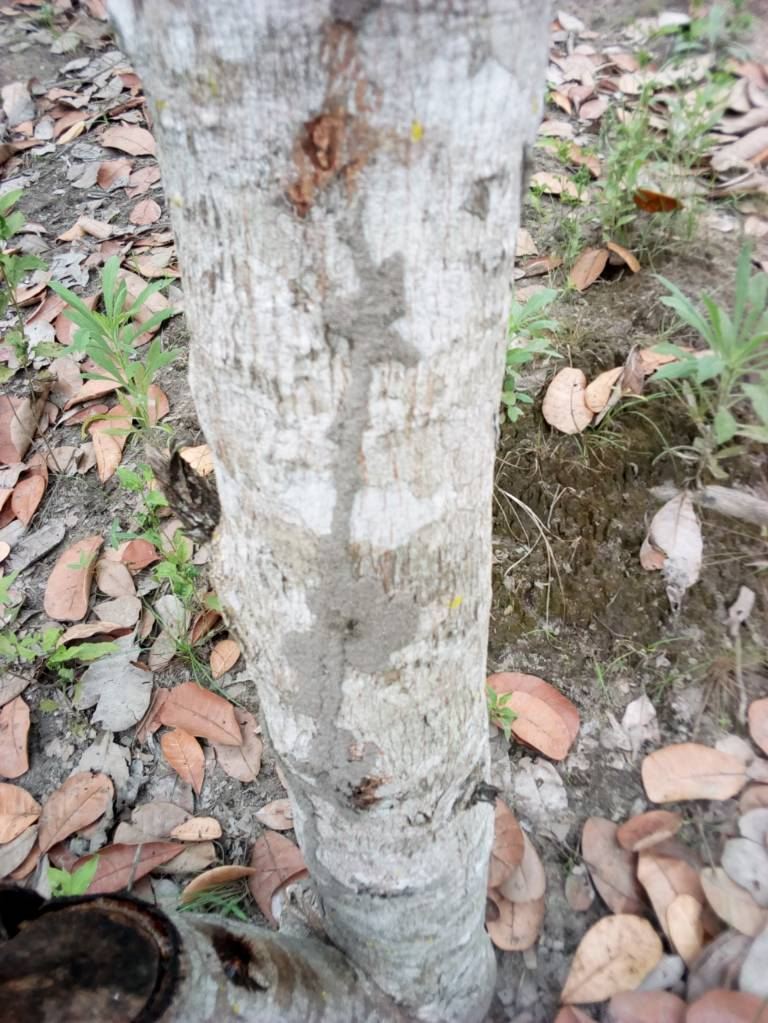Termites: (297, 222, 382, 927)
